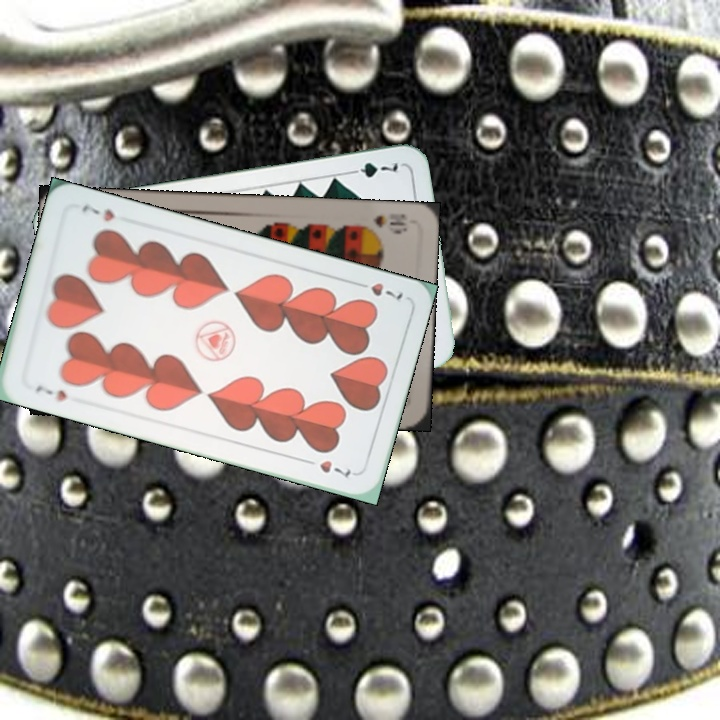G7: (343, 158, 402, 180)
H7: (349, 277, 406, 303), (31, 380, 70, 404)
S10: (353, 209, 409, 235)
